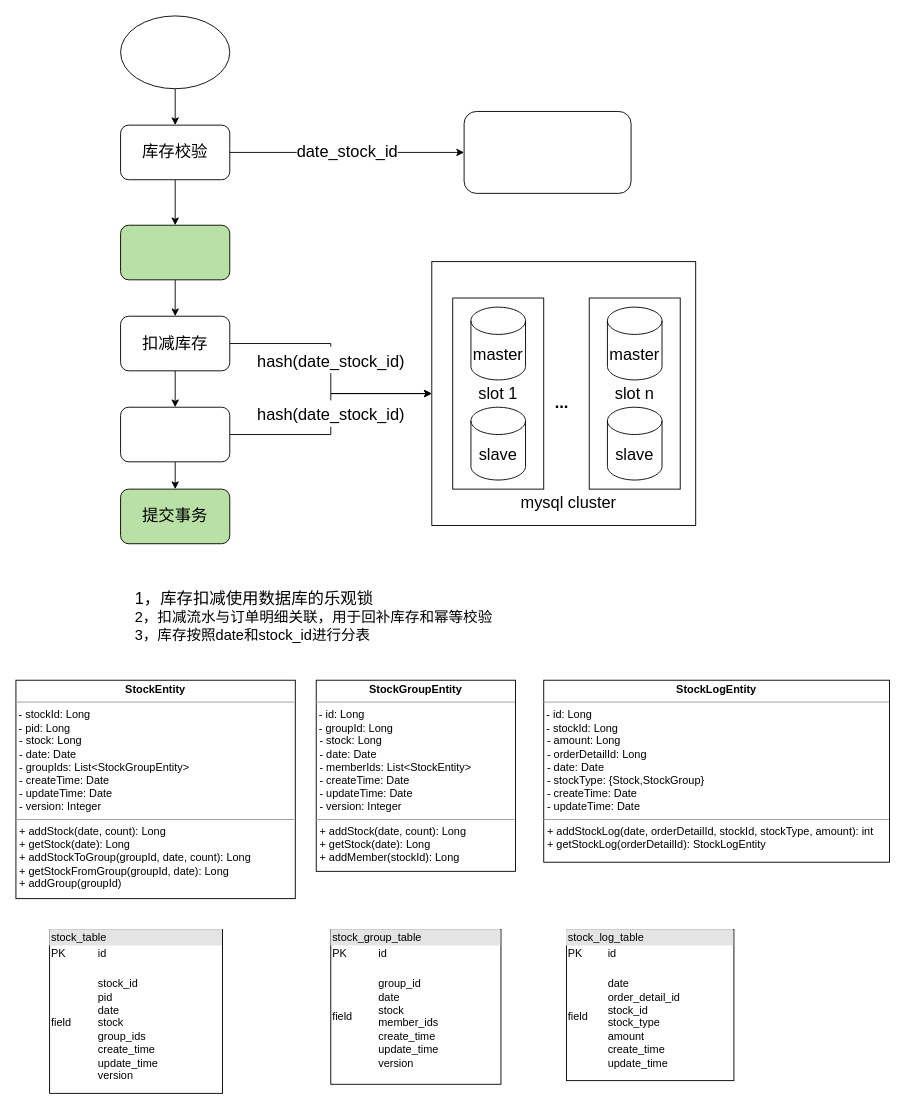
This 905x1109 diagram has some shape labels left out. Each missing label, with the centre of its shape:
"redis-cluster" belongs at point 547,152.
"开启事务" belongs at point 175,252.
"开始" belongs at point 175,52.
"扣减流水" belongs at point 175,434.
